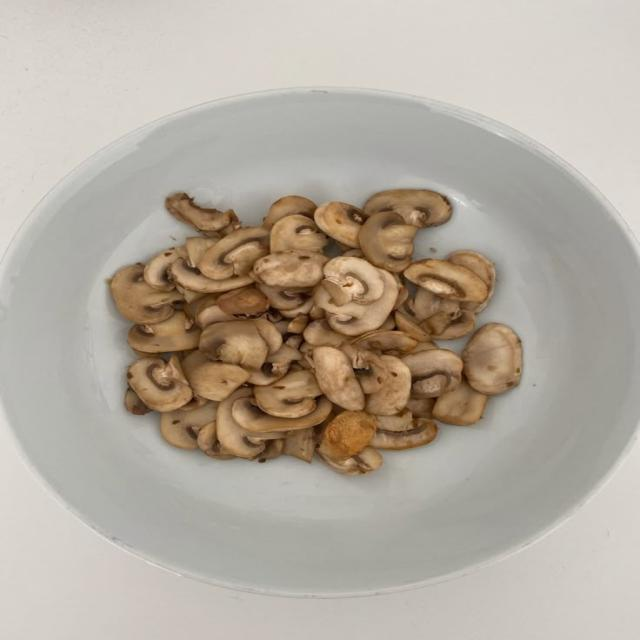champignon mushrooms: (109, 190, 521, 474), (314, 270, 398, 335), (462, 323, 521, 395), (110, 265, 181, 324), (197, 227, 268, 280), (127, 355, 192, 412), (404, 259, 488, 302), (232, 397, 333, 432), (199, 320, 269, 370), (360, 211, 417, 272), (182, 350, 249, 401), (313, 346, 365, 411), (217, 388, 265, 458), (364, 190, 452, 227), (254, 371, 321, 418), (447, 250, 495, 313), (322, 257, 384, 305), (127, 312, 200, 352), (402, 349, 462, 397), (252, 250, 327, 288), (172, 259, 253, 293), (319, 412, 376, 460), (366, 355, 411, 415), (160, 402, 217, 449), (401, 288, 459, 333), (166, 193, 233, 231), (433, 380, 487, 425), (314, 202, 366, 247), (340, 344, 386, 394), (270, 214, 328, 252), (371, 419, 438, 450), (144, 247, 187, 291), (317, 447, 382, 474), (263, 196, 316, 229), (354, 331, 418, 356), (217, 287, 269, 317), (256, 283, 312, 310), (198, 421, 235, 459), (432, 310, 475, 339), (194, 299, 236, 328), (303, 319, 346, 346), (283, 428, 314, 463), (394, 312, 431, 341), (253, 318, 282, 355), (186, 237, 219, 266), (376, 408, 413, 431), (253, 439, 285, 462), (280, 297, 313, 319), (125, 389, 151, 415), (407, 398, 436, 418), (287, 314, 308, 334), (412, 340, 439, 353), (309, 305, 325, 320), (343, 248, 364, 257)
